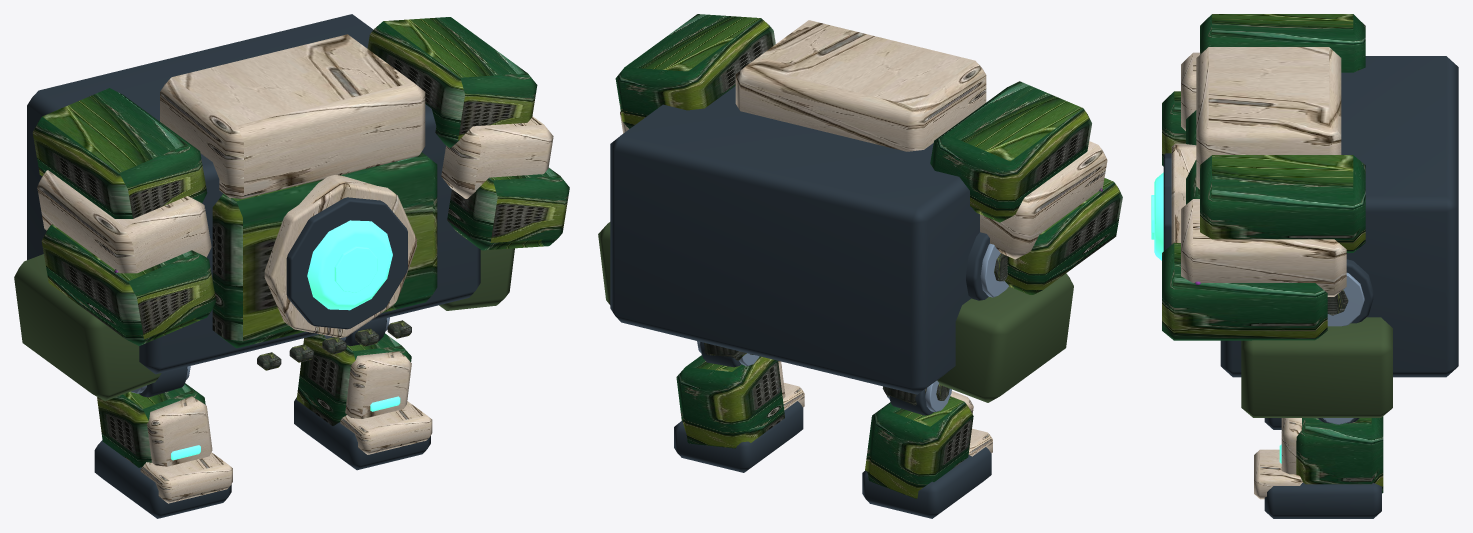
Rendered from bark_bulwark.glb.
The picture shows the model from 3 angles, left to right: view 1: azimuth 30°, elevation 25°; view 2: azimuth 150°, elevation 25°; view 3: azimuth 270°, elevation 25°; orthographic projection. The views are drawn at different scales.
Parts seen in each view (by area): view 1: Cobalt, Ceramic, Graphite, Polymer bark, Ceramic.002, Ceramic.001, Jade power rail, Cobalt.002, Graphite.001, Cobalt.001, Graphite.002, Brushed steel; view 2: Graphite, Cobalt, Ceramic, Polymer bark, Cobalt.002, Cobalt.001, Graphite.001, Graphite.002, Machined edges, Ceramic.001; view 3: Graphite, Cobalt, Ceramic, Polymer bark, Cobalt.002, Graphite.002, Ceramic.002, Machined edges, Jade power rail, Brushed steel.
Part boxes in pixels (left/top/right/bottom): Cobalt: left=32, top=17, right=569, bottom=348; Ceramic: left=37, top=34, right=553, bottom=337; Graphite: left=27, top=14, right=480, bottom=374; Polymer bark: left=14, top=248, right=514, bottom=401; Ceramic.002: left=340, top=351, right=432, bottom=454; Ceramic.001: left=140, top=396, right=232, bottom=503; Jade power rail: left=307, top=220, right=392, bottom=310; Cobalt.002: left=296, top=333, right=411, bottom=425; Graphite.001: left=94, top=367, right=231, bottom=518; Cobalt.001: left=97, top=383, right=205, bottom=467; Graphite.002: left=294, top=318, right=430, bottom=470; Brushed steel: left=257, top=320, right=411, bottom=370; Graphite: left=610, top=86, right=989, bottom=394; Cobalt: left=615, top=14, right=1122, bottom=294; Ceramic: left=620, top=20, right=1107, bottom=259; Polymer bark: left=598, top=222, right=1073, bottom=402; Cobalt.002: left=676, top=355, right=784, bottom=448; Cobalt.001: left=865, top=396, right=973, bottom=498; Graphite.001: left=862, top=389, right=991, bottom=518; Graphite.002: left=674, top=342, right=803, bottom=472; Machined edges: left=980, top=243, right=1008, bottom=297; Ceramic.001: left=950, top=391, right=992, bottom=456; Graphite: left=1163, top=56, right=1458, bottom=377; Cobalt: left=1162, top=14, right=1365, bottom=340; Ceramic: left=1171, top=47, right=1346, bottom=296; Polymer bark: left=1241, top=317, right=1392, bottom=417; Cobalt.002: left=1296, top=416, right=1383, bottom=493; Graphite.002: left=1264, top=418, right=1381, bottom=518; Ceramic.002: left=1254, top=418, right=1302, bottom=499; Machined edges: left=1327, top=272, right=1364, bottom=326; Jade power rail: left=1151, top=172, right=1163, bottom=260; Brushed steel: left=1327, top=290, right=1348, bottom=315.
Bounding box in the file's own units: 1.38 × 1.19 × 0.891.
8 materials, 4 textured.
